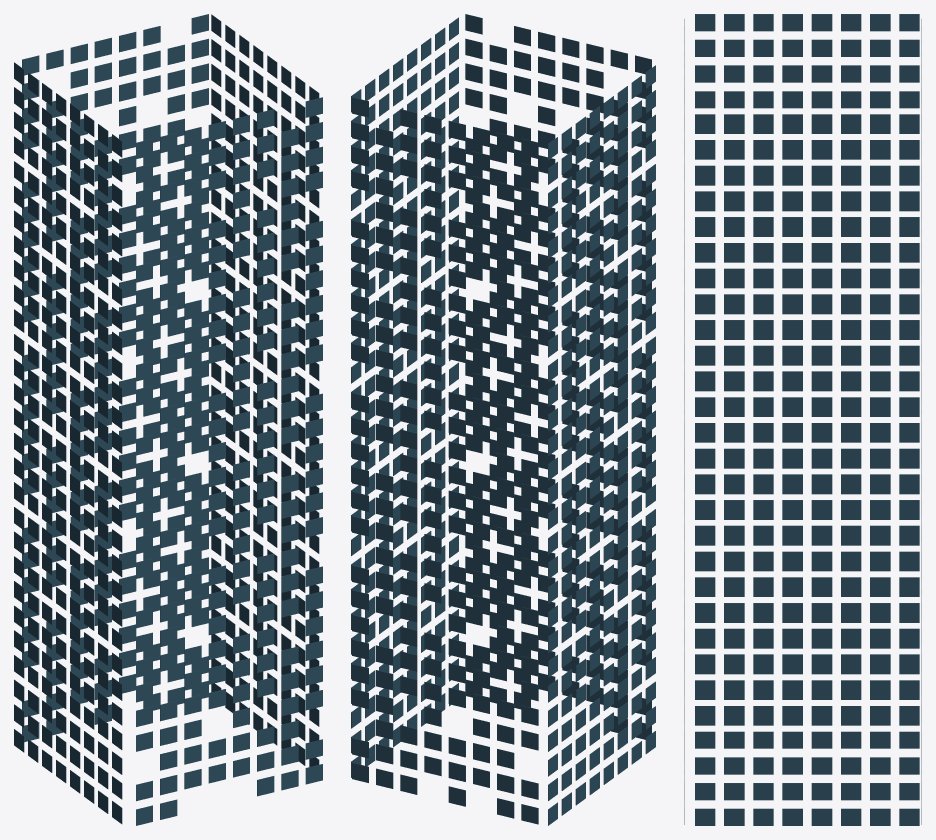
File: glass.dae
The picture shows the model from 3 angles, left to right: view 1: azimuth 30°, elevation 25°; view 2: azimuth 150°, elevation 25°; view 3: azimuth 270°, elevation 25°; orthographic projection. The views are drawn at different scales.
Bounding box in the file's own units: 30.13 × 30.13 × 99.58.
